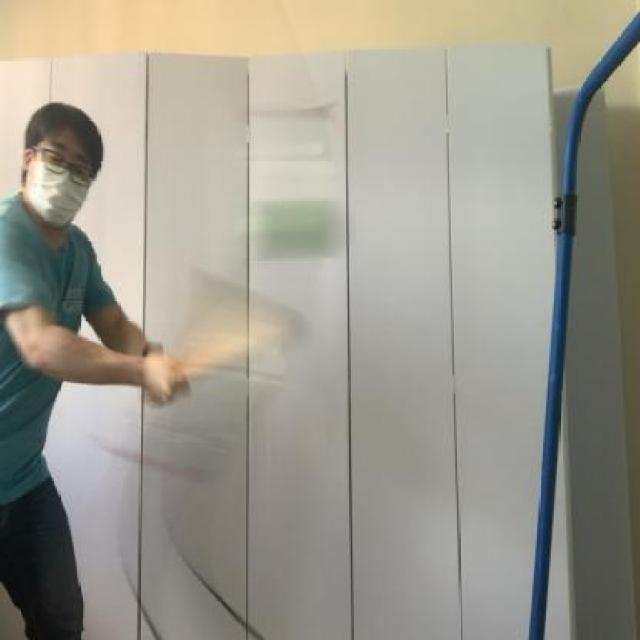baseball: (218, 182, 376, 262)
